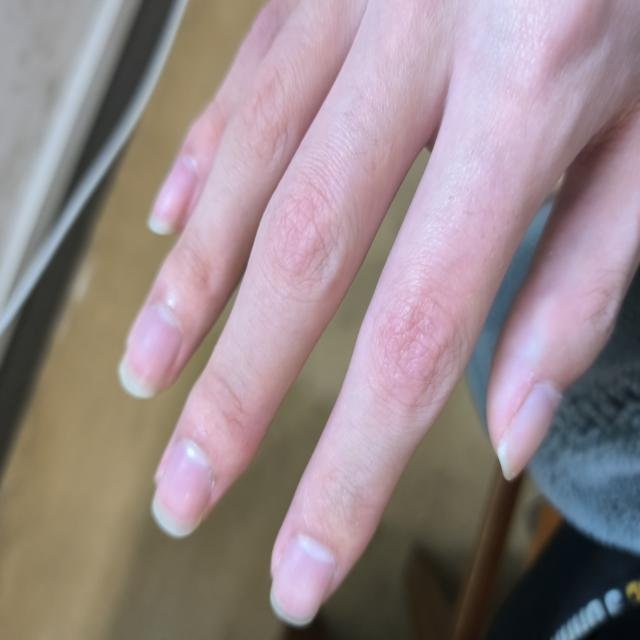Nail: (498, 383, 563, 479), (270, 533, 336, 624), (120, 305, 183, 397), (152, 440, 212, 535), (150, 154, 199, 232)
